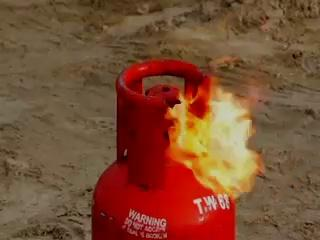Fire: (144, 8, 302, 190)
